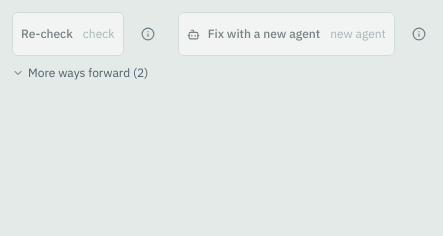
Test: <RecoveryActions> › flags disable with the exact sentence, never hide
Check: the button "Re-check check" is disabled, box [12,12,124,56]
Step 1. Click the heading "More ways forward (2)" → (80, 73), box [12,64,148,81]
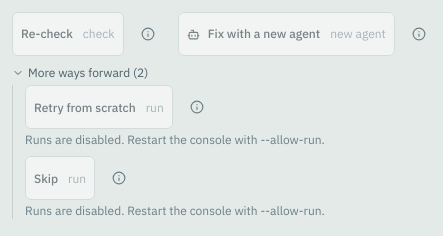
Check: the 1st text "Runs are disabled. Restart the console with --allow-run." is shown, box [25,132,325,147]
